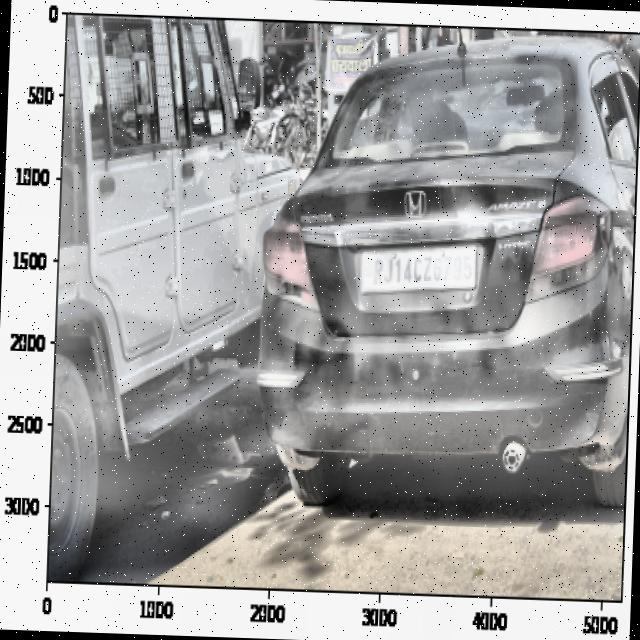license_plate: (366, 247, 479, 296)
